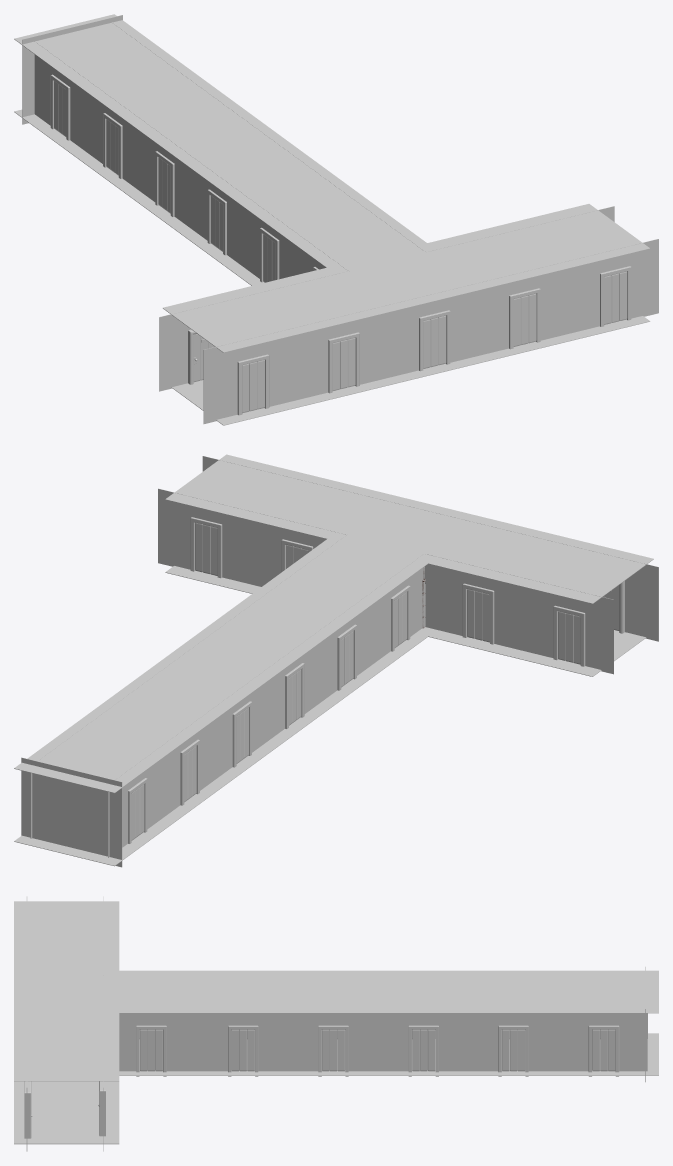
Rendered from Lobby Ver 2.fbx.
The picture shows the model from 3 angles, top to bottom: view 1: azimuth 30°, elevation 25°; view 2: azimuth 150°, elevation 25°; view 3: azimuth 270°, elevation 25°; orthographic projection. The views are drawn at different scales.
Visible parts, largest first — view 1: Cube.007, Cube, Cube.074, Cube.086, Cube.122, Cube.098, Cube.110, Cube.043, Cube.030, Cube.055, Cube.067, Cube.079 (+16 smaller); view 2: Cube.007, Cube, Cube.012, Cube.091, Cube.079, Cube.127, Cube.115, Cube.074, Cube.018, Cube.001, Cube.043, Cube.030 (+14 smaller); view 3: Cube.007, Cube, Cube.062, Cube.025, Cube.050, Cube.013, Cube.038, Cube.002, Cube.015, Cube.040, Cube.052, Cube.064 (+10 smaller).
Boxes of the visible parts, box(x1,y1,x2,y2) form: Cube.007: box(14, 14, 650, 352); Cube: box(14, 109, 650, 425); Cube.074: box(203, 327, 296, 423); Cube.086: box(294, 305, 387, 399); Cube.122: box(566, 239, 658, 333); Cube.098: box(385, 283, 477, 377); Cube.110: box(476, 261, 568, 355); Cube.043: box(137, 117, 190, 227); Cube.030: box(190, 155, 242, 265); Cube.055: box(85, 79, 138, 189); Cube.067: box(34, 41, 85, 151); Cube.079: box(159, 294, 251, 391); Cube.007: box(14, 454, 653, 793); Cube: box(14, 566, 646, 866); Cube.012: box(21, 757, 122, 867); Cube.091: box(425, 554, 520, 650); Cube.079: box(521, 577, 613, 674); Cube.127: box(158, 488, 248, 583); Cube.115: box(249, 510, 345, 586); Cube.074: box(566, 544, 658, 641); Cube.018: box(318, 592, 371, 704); Cube.001: box(371, 553, 424, 665); Cube.043: box(213, 669, 265, 780); Cube.030: box(265, 631, 317, 742); Cube.007: box(14, 901, 658, 1081); Cube: box(14, 1033, 658, 1144); Cube.062: box(555, 1008, 647, 1071); Cube.025: box(284, 1008, 374, 1071); Cube.050: box(465, 1008, 555, 1071); Cube.013: box(194, 1008, 284, 1071); Cube.038: box(375, 1008, 464, 1071); Cube.002: box(103, 1008, 194, 1071); Cube.015: box(231, 1029, 254, 1071); Cube.040: box(412, 1029, 435, 1071); Cube.052: box(502, 1029, 525, 1071); Cube.064: box(592, 1029, 615, 1071).
Bounding box in the file's own units: 3130 × 559 × 4454.
